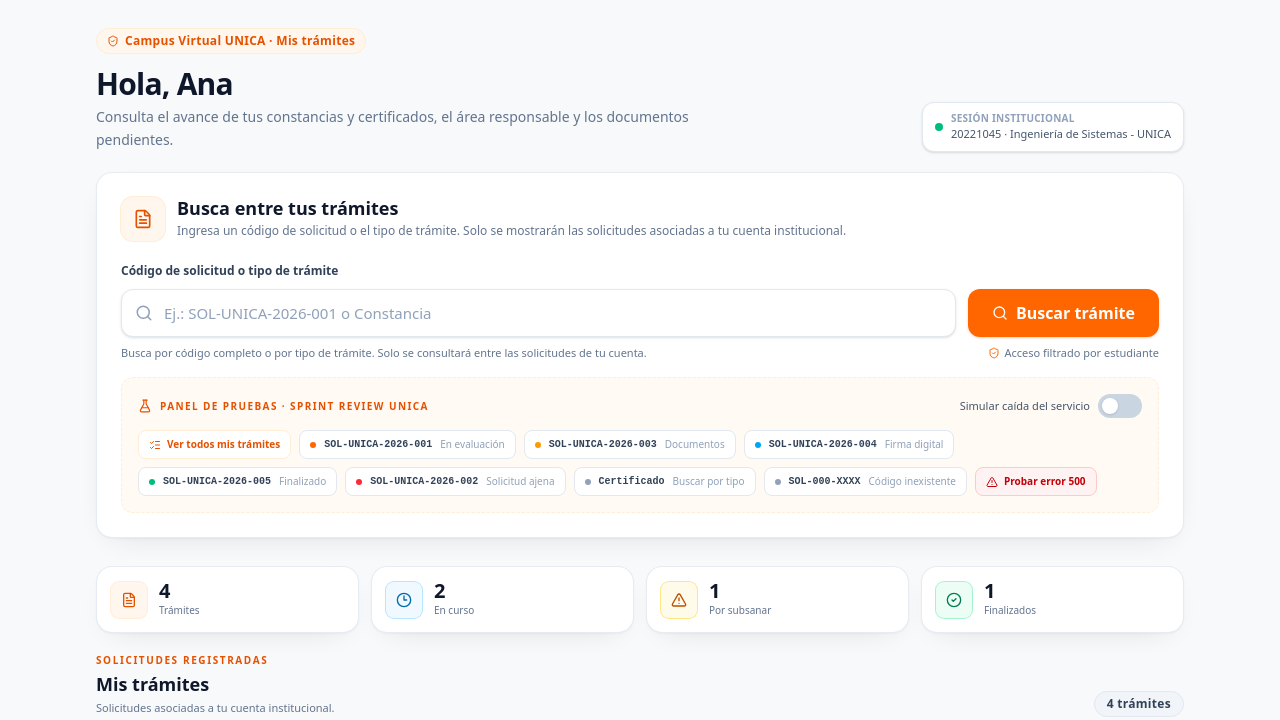
Scenario: Campus Virtual UNICA · integración UI › bloquea con 403 exacto el código de otro estudiante
Type "SOL-UNICA-2026-002" into the field labelled "Código de solicitud o tipo de trámite" at (538, 312), box top-left (121, 288), bottom-right (956, 336)
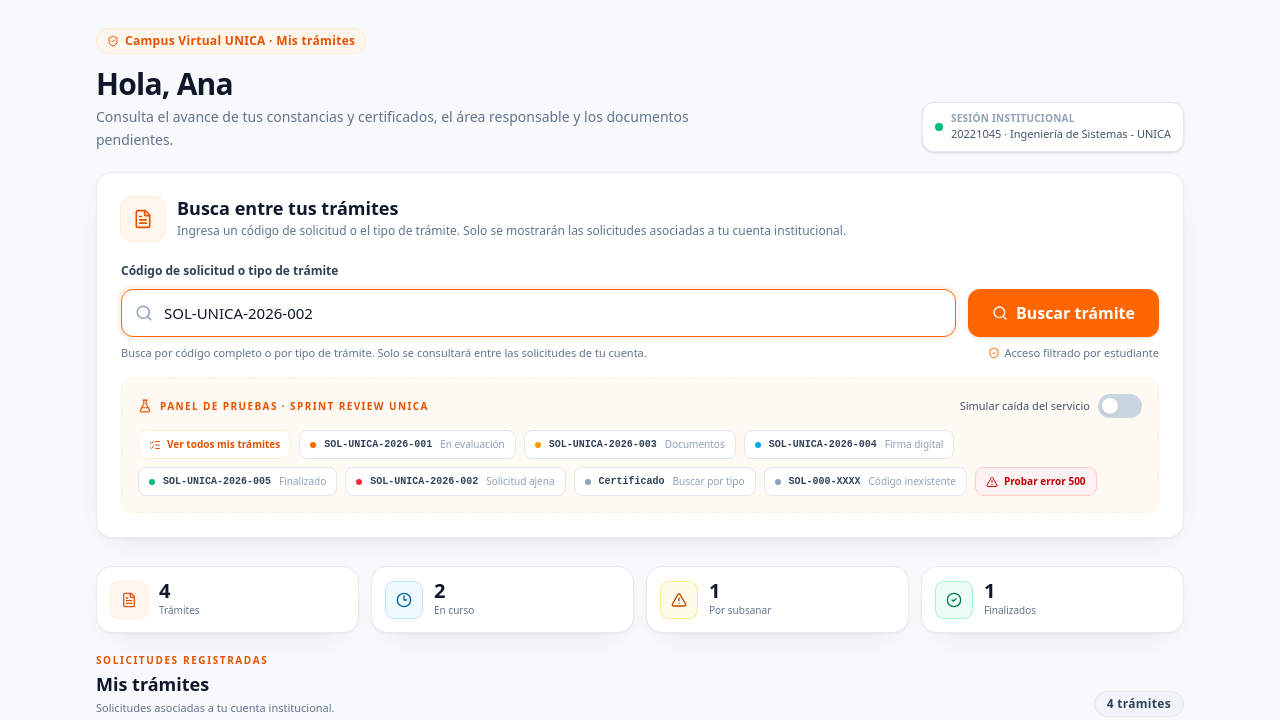
Click the button "Buscar trámite" at (1063, 312), box top-left (968, 288), bottom-right (1159, 336)
(page scrolled)
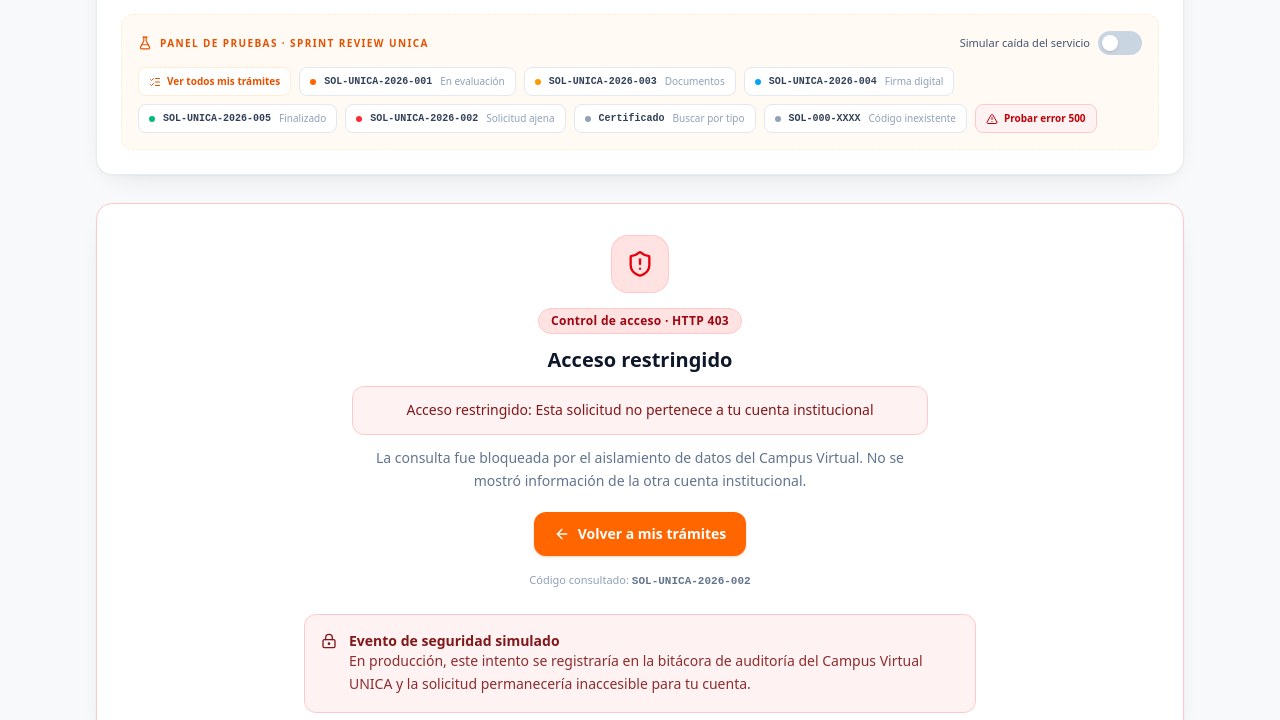
expect the text "Acceso restringido: Esta solicitud no pertenece a tu cuenta institucional" is shown: met, box top-left (352, 386), bottom-right (928, 435)
expect the heading "Acceso restringido" is shown: met, box top-left (548, 346), bottom-right (732, 373)
